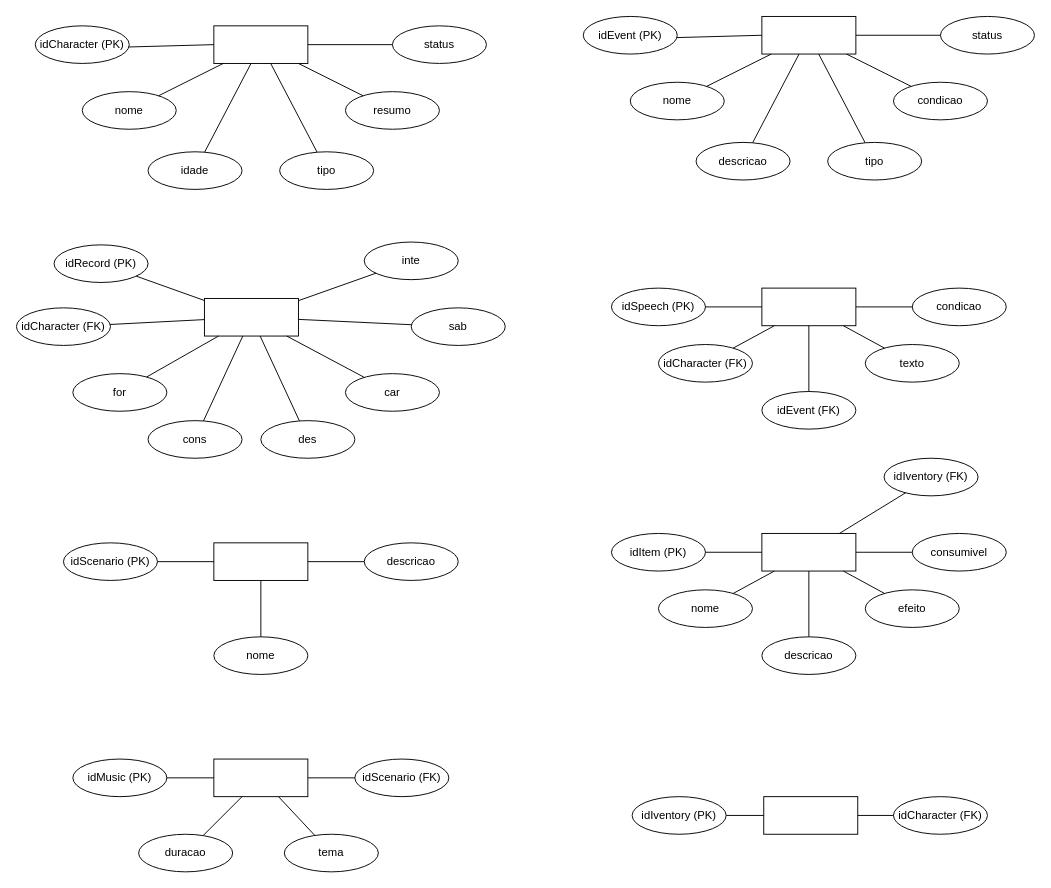
Image size: 1051x888. Some labels were removed from this diagram. Here are the shapes that lost their labels. From the top down, the box of each, then its label:
(213, 25, 308, 63): Personagem
(761, 16, 856, 54): Evento
(204, 298, 298, 336): Proficiencia
(761, 287, 856, 326): Dialogo
(213, 542, 308, 580): Cenario
(761, 533, 856, 571): Item
(213, 758, 308, 797): Musica
(763, 796, 858, 834): Iventario
